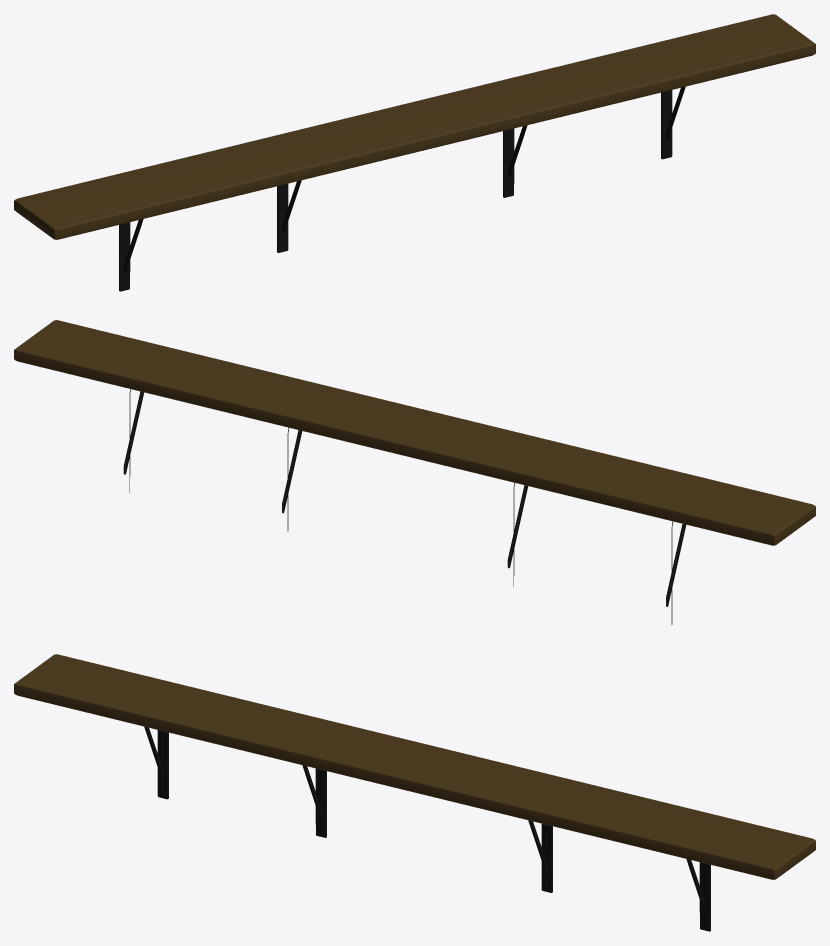
The model's file is SeanElstonShelf_02Final.fbx.
3 views of the same model, one above another, from view 1: azimuth 30°, elevation 25°; view 2: azimuth 150°, elevation 25°; view 3: azimuth 330°, elevation 25° (orthographic).
Parts seen in each view (by area): view 1: Shelf_02; view 2: Shelf_02; view 3: Shelf_02.
Part boxes in pixels (x1,y1,x2,y2): Shelf_02: (14,14,815,291); Shelf_02: (14,320,815,624); Shelf_02: (14,654,815,931).
Bounding box in the file's own units: 337 × 49.78 × 31.87.
